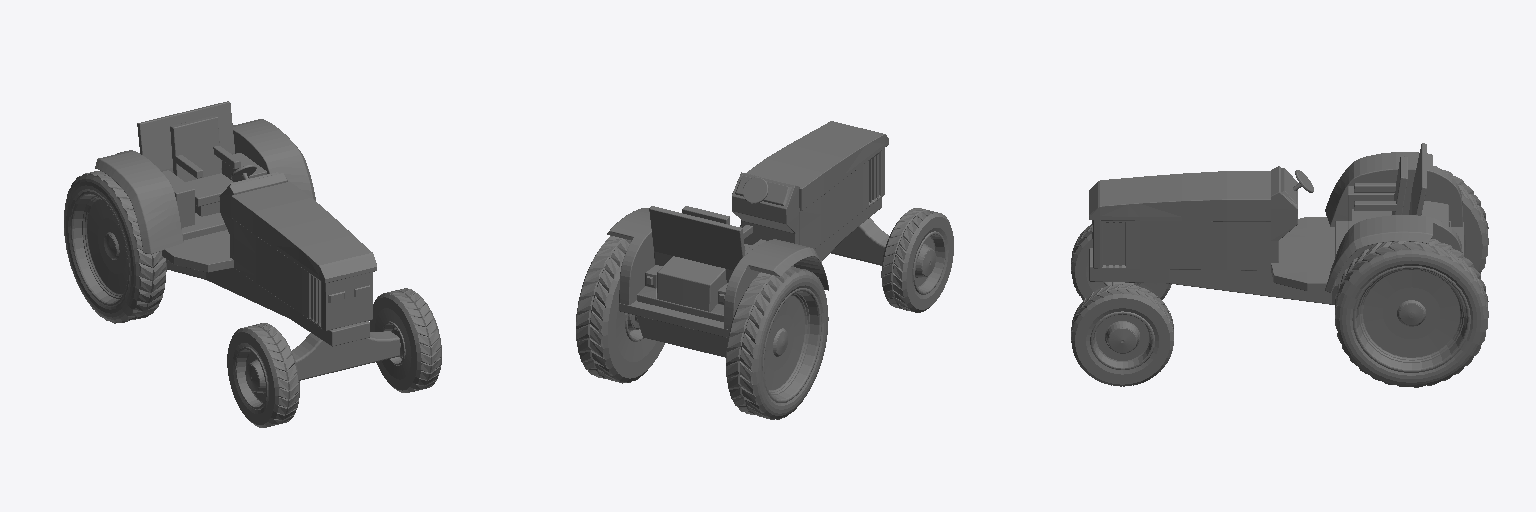
The model's file is Tractor.obj.
The picture shows the model from 3 angles: view 1: azimuth 30°, elevation 25°; view 2: azimuth 150°, elevation 25°; view 3: azimuth 270°, elevation 25°; orthographic projection.
Parts seen in each view (by area): view 1: polySurface2290; view 2: polySurface2290; view 3: polySurface2290.
Part boxes in pixels (x1,y1,x2,y2): polySurface2290: (64,101,441,427); polySurface2290: (576,121,953,419); polySurface2290: (1071,143,1488,387).
Size of the model in its own units: 228 by 217 by 451.